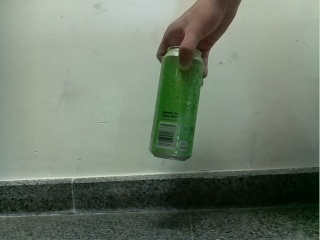botella plastico: (150, 46, 203, 160)
